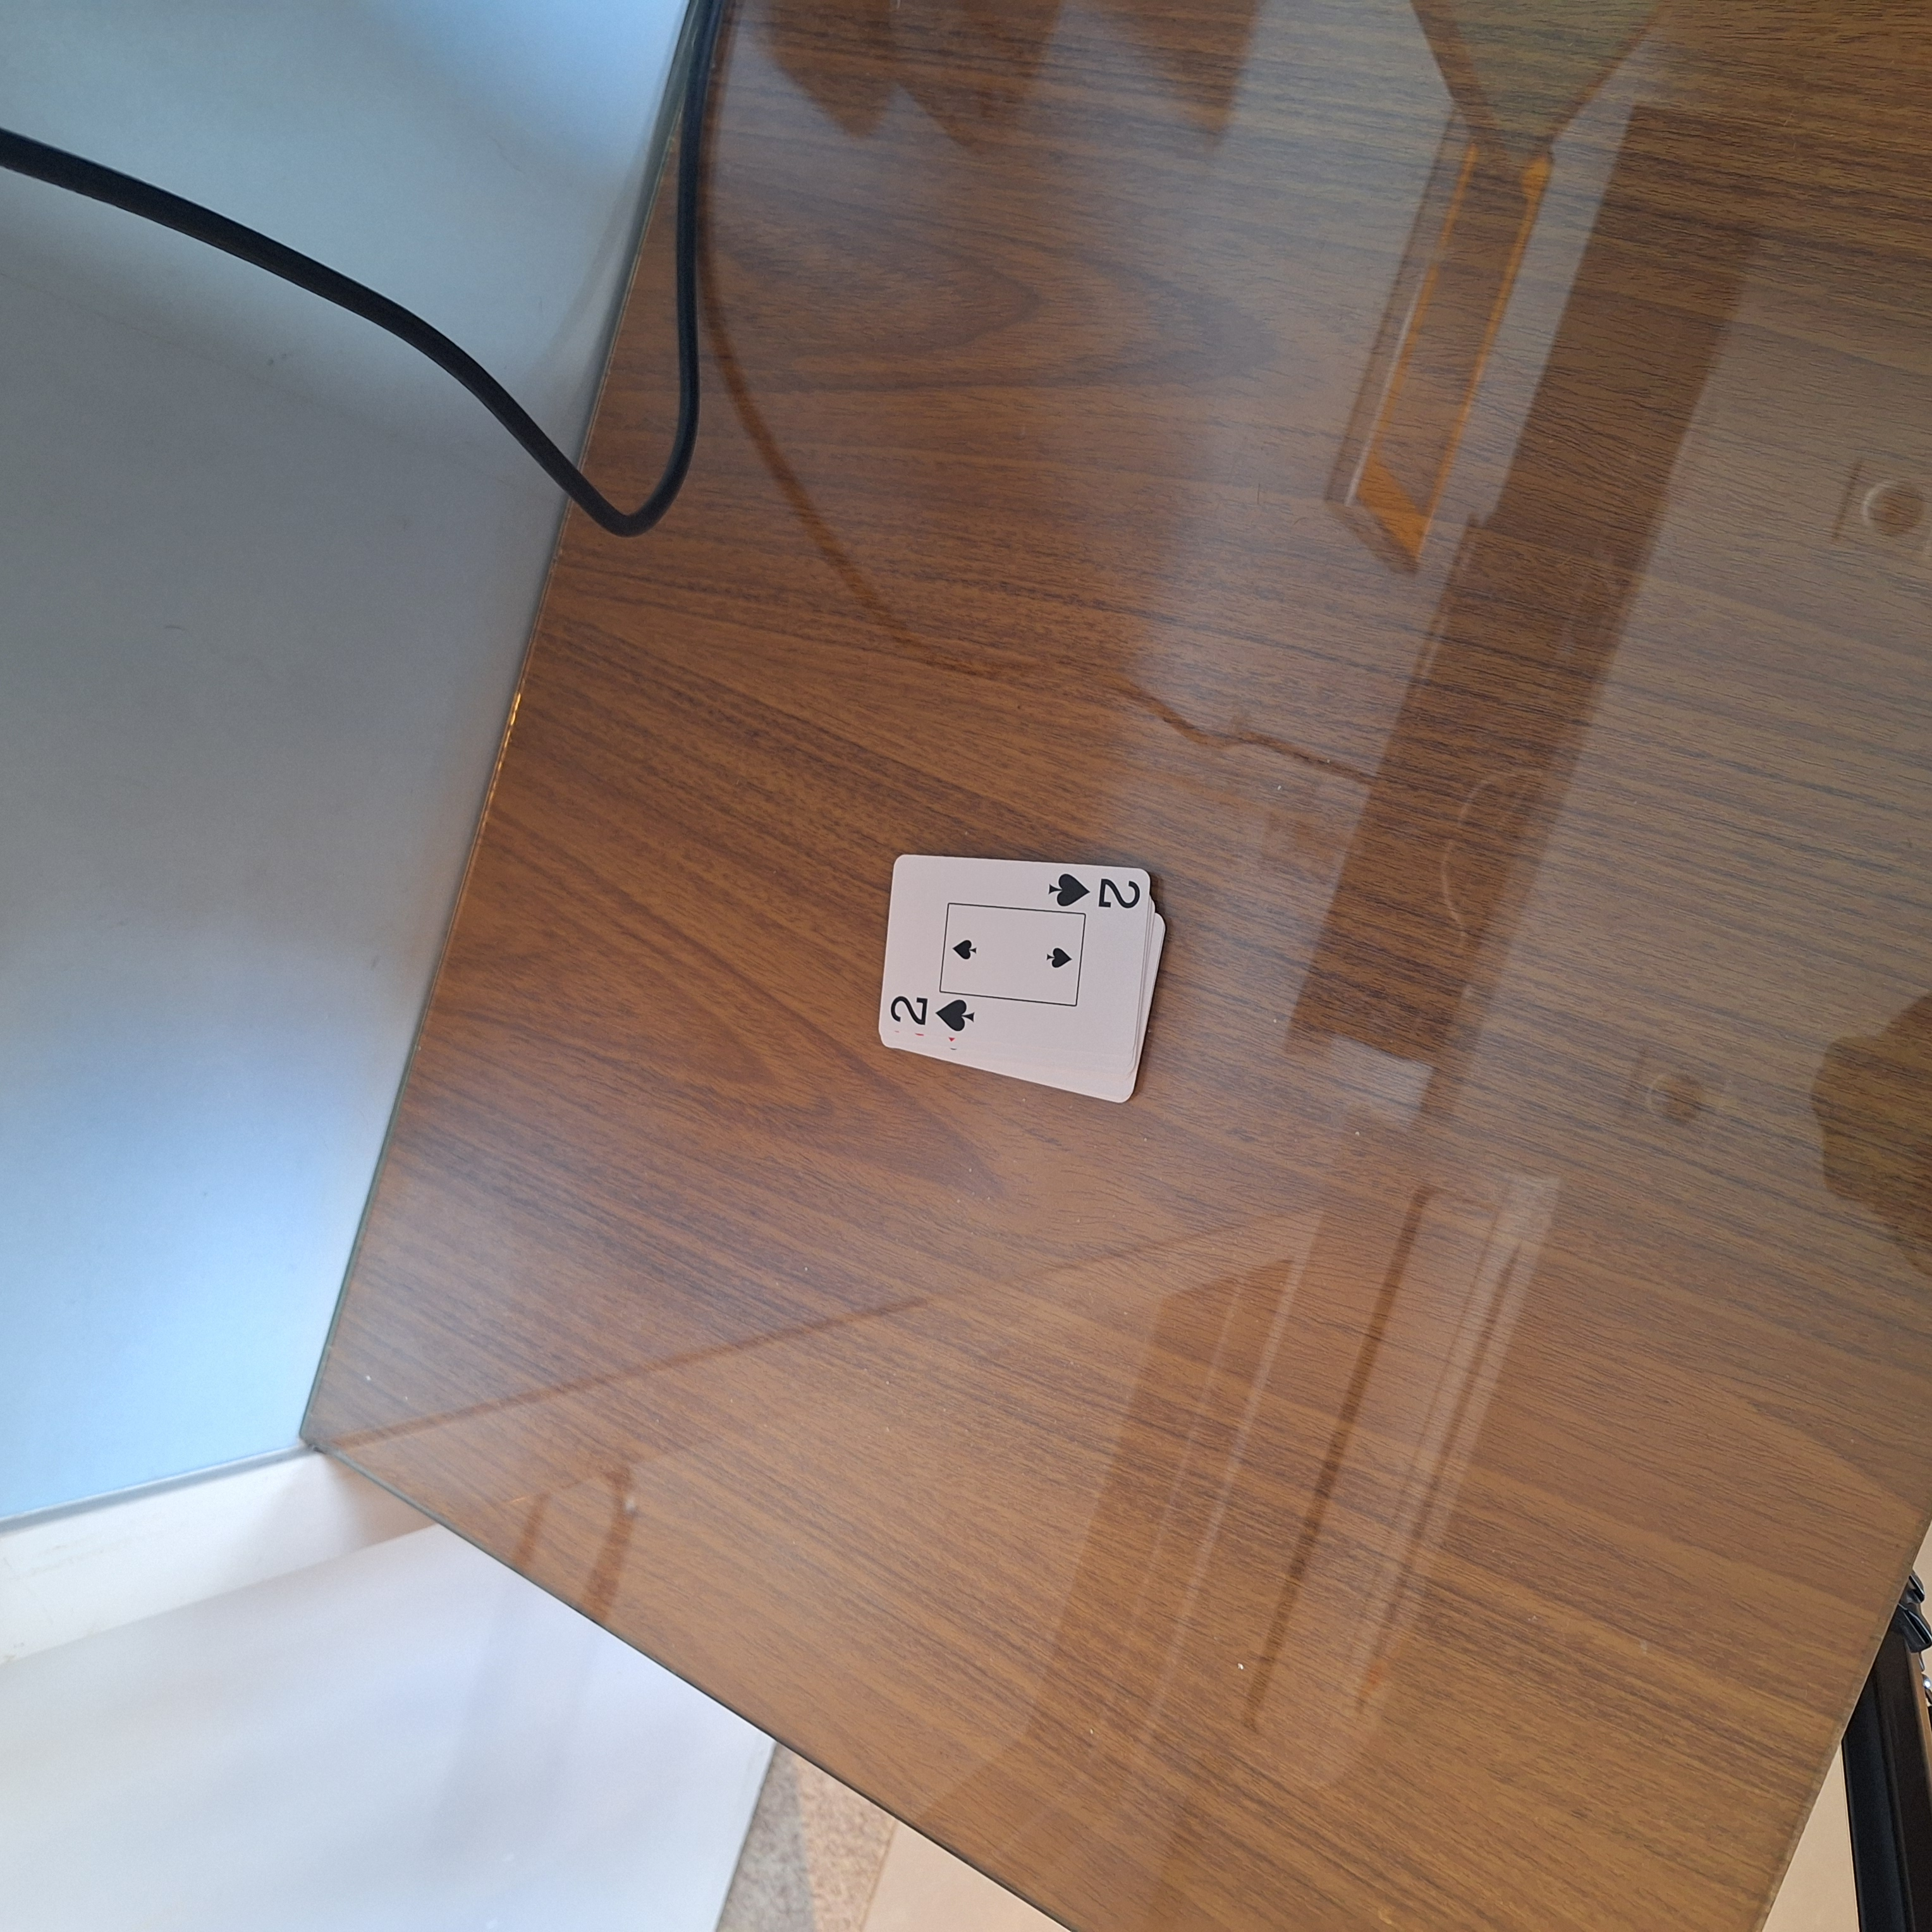2E: (881, 991, 987, 1037), (1044, 870, 1146, 913)
